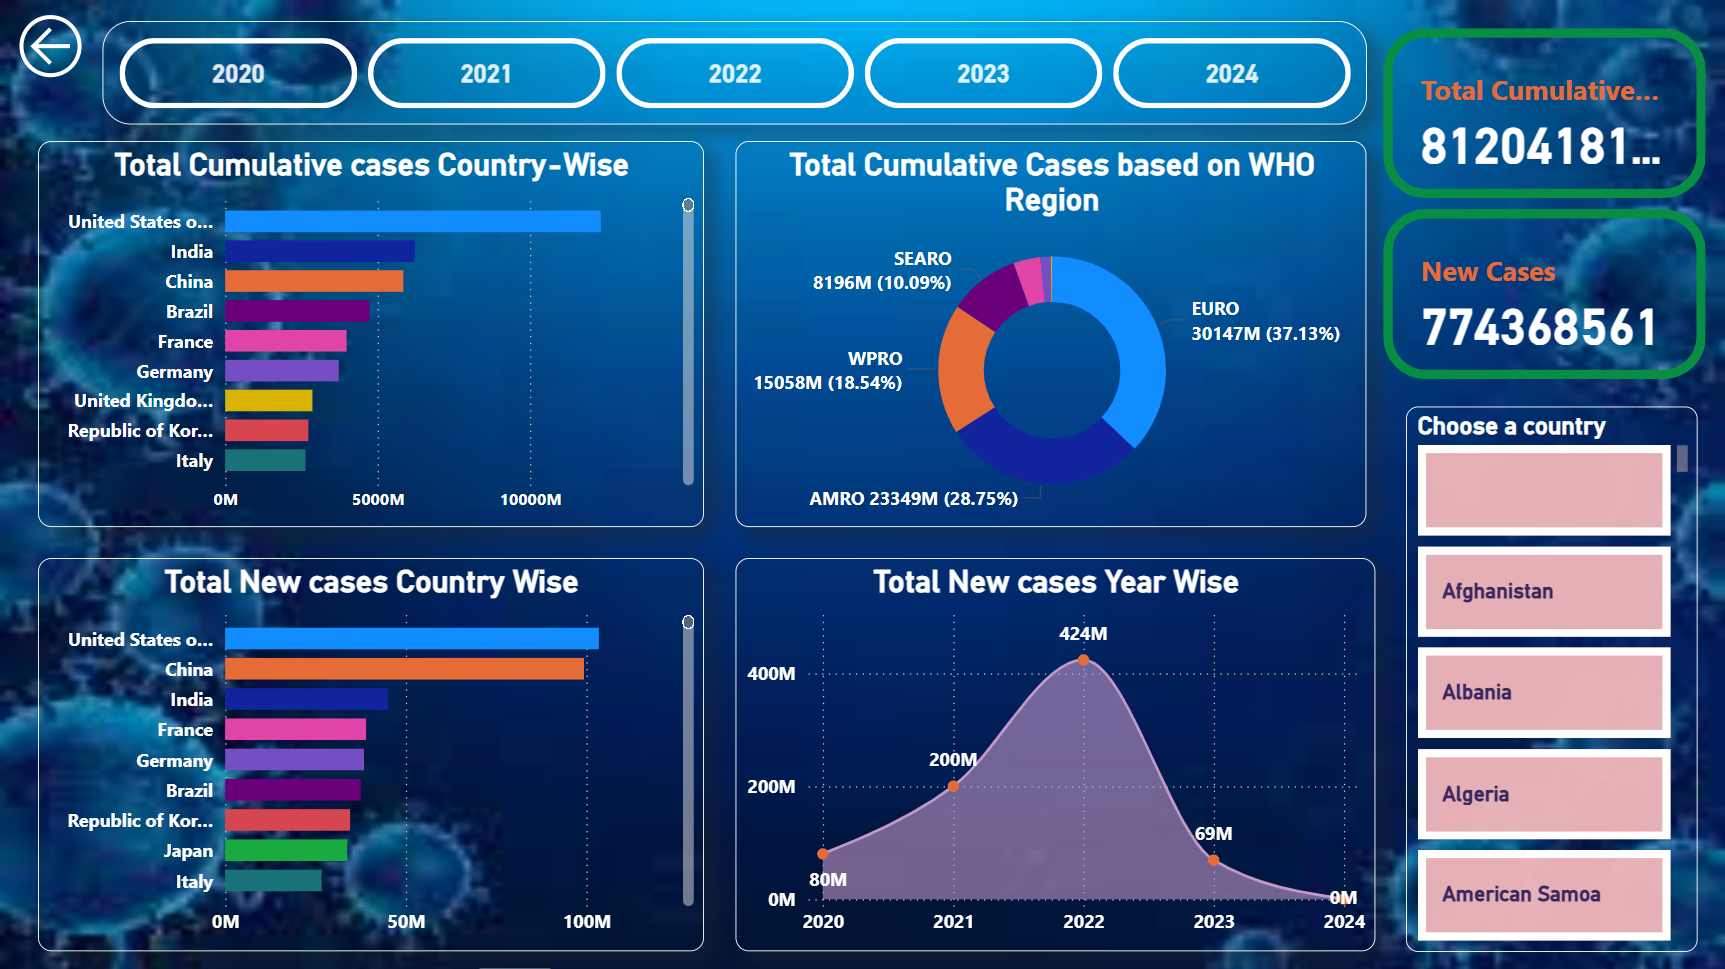

This screenshot's page, from the dashboard's own definition file:
{"tool":"powerbi","page":{"name":"Page 2","canvas":[1280,720],"ordinal":1},"visuals":[{"type":"advancedSlicerVisual","title":"Choose a country","fields":{"Values":["WHO-COVID-19-global-data (3).Country"]},"box":[1041.9,300.6,216.3,404],"z":0},{"type":"advancedSlicerVisual","fields":{"Values":["WHO-COVID-19-global-data (3).Date_reported.Variation.Date Hierarchy.Year"]},"box":[76.3,15.9,936.9,76.3],"z":1000},{"type":"donutChart","title":"Total Cumulative Cases based on WHO Region","fields":{"Y":["Sum(WHO-COVID-19-global-data (3).Cumulative_cases)"],"Category":["WHO-COVID-19-global-data (3).WHO_region"]},"box":[545.6,105,467.6,286.3],"z":2000},{"type":"barChart","title":"Total Cumulative cases Country-Wise","fields":{"Category":["WHO-COVID-19-global-data (3).Country"],"Y":["Sum(WHO-COVID-19-global-data (3).Cumulative_cases)"]},"box":[28.6,105,493.1,286.3],"z":3000},{"type":"areaChart","title":"Total New cases Year Wise","fields":{"Y":["Sum(WHO-COVID-19-global-data (3).New_cases)"],"Category":["WHO-COVID-19-global-data (3).Date_reported.Variation.Date Hierarchy.Year"]},"box":[545.6,413.6,474,291.1],"z":4000},{"type":"cardVisual","fields":{"Data":["Sum(WHO-COVID-19-global-data (3).Cumulative_cases)","Sum(WHO-COVID-19-global-data (3).New_cases)"]},"box":[1019.6,15.9,249.7,272],"z":5000},{"type":"barChart","title":"Total New cases Country Wise","fields":{"Y":["Sum(WHO-COVID-19-global-data (3).New_cases)"],"Category":["WHO-COVID-19-global-data (3).Country"]},"box":[28.6,413.6,493.1,291.1],"z":6000},{"type":"actionButton","box":[0,0,76.3,68.4],"z":7000}]}

Visuals, with their boxes in screenshot pixels (x1, y1, x2, y2), scaled from the page's 1280x720 canvas onto the 1725x969 screenshot:
"Choose a country" advancedSlicerVisual: 1404 405 1696 948
advancedSlicerVisual - WHO-COVID-19-global-data (3).Date_reported.Variation.Date Hierarchy.Year: 103 21 1365 124
"Total Cumulative Cases based on WHO Region" donutChart: 735 141 1365 527
"Total Cumulative cases Country-Wise" barChart: 39 141 703 527
"Total New cases Year Wise" areaChart: 735 557 1374 948
cardVisual - Sum(WHO-COVID-19-global-data (3).Cumulative_cases) x Sum(WHO-COVID-19-global-data (3).New_cases): 1374 21 1711 387
"Total New cases Country Wise" barChart: 39 557 703 948
actionButton: 0 0 103 92
